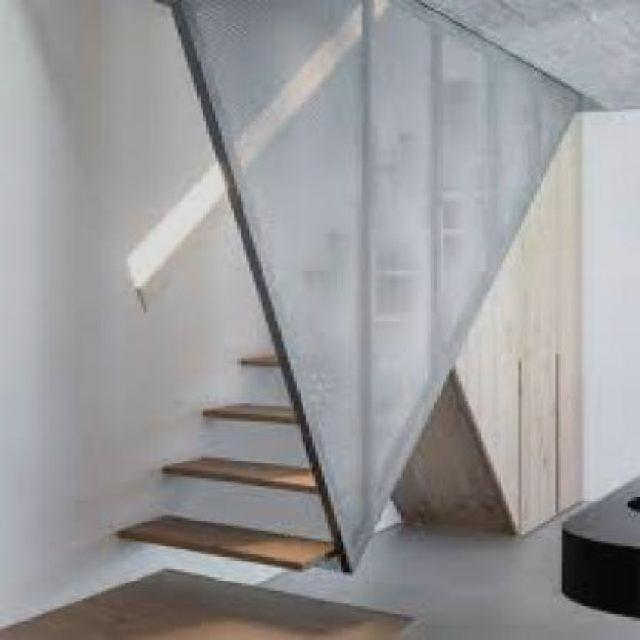stair: (103, 68, 580, 588)
